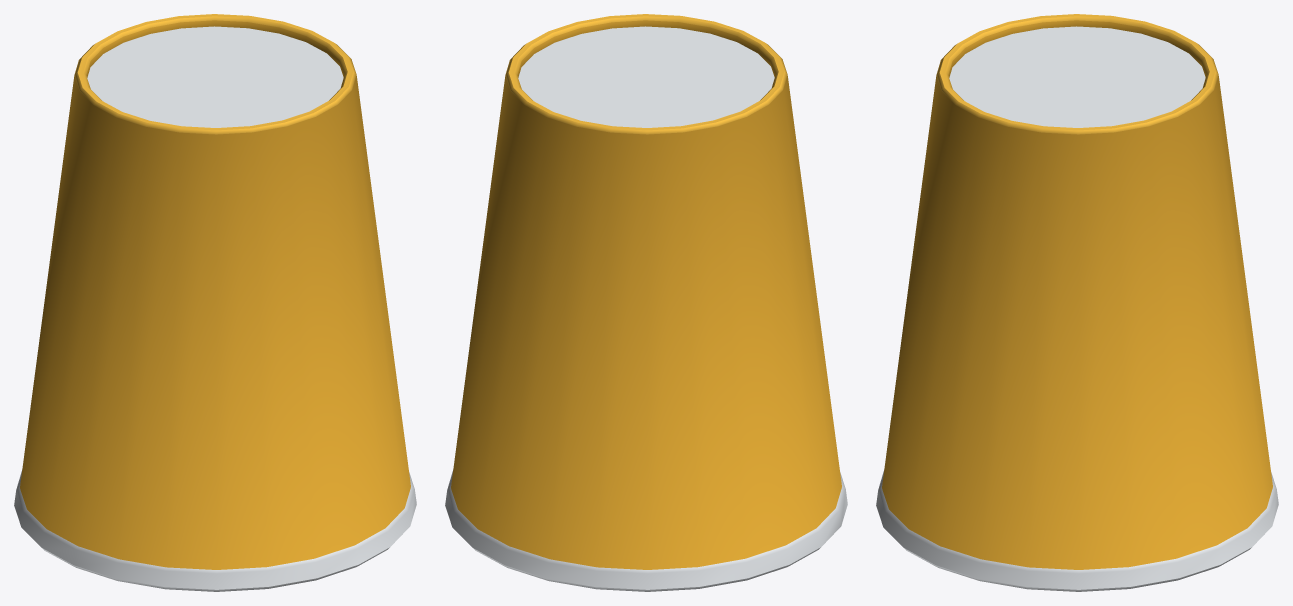
Rendered from copo_papel_laranja_pacote.glb.
The picture shows the model from 3 angles, left to right: view 1: azimuth 30°, elevation 25°; view 2: azimuth 150°, elevation 25°; view 3: azimuth 270°, elevation 25°; orthographic projection.
Visible parts, largest first — view 1: copo_papel_laranja_pacote; view 2: copo_papel_laranja_pacote; view 3: copo_papel_laranja_pacote.
Boxes of the visible parts, box(x1,y1,x2,y2) form: copo_papel_laranja_pacote: box(14, 14, 416, 591); copo_papel_laranja_pacote: box(445, 14, 847, 591); copo_papel_laranja_pacote: box(876, 14, 1278, 591).
Bounding box in the file's own units: 0.1009 × 0.1207 × 0.1009.
Materials: 1 (1 with a texture image).
